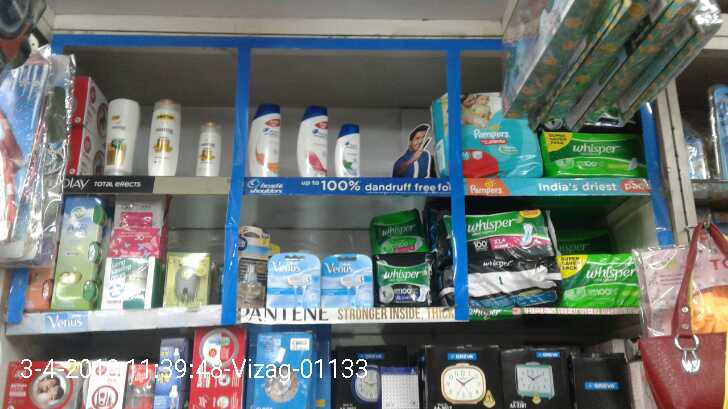gillete: (266, 254, 321, 308), (322, 254, 374, 306)
